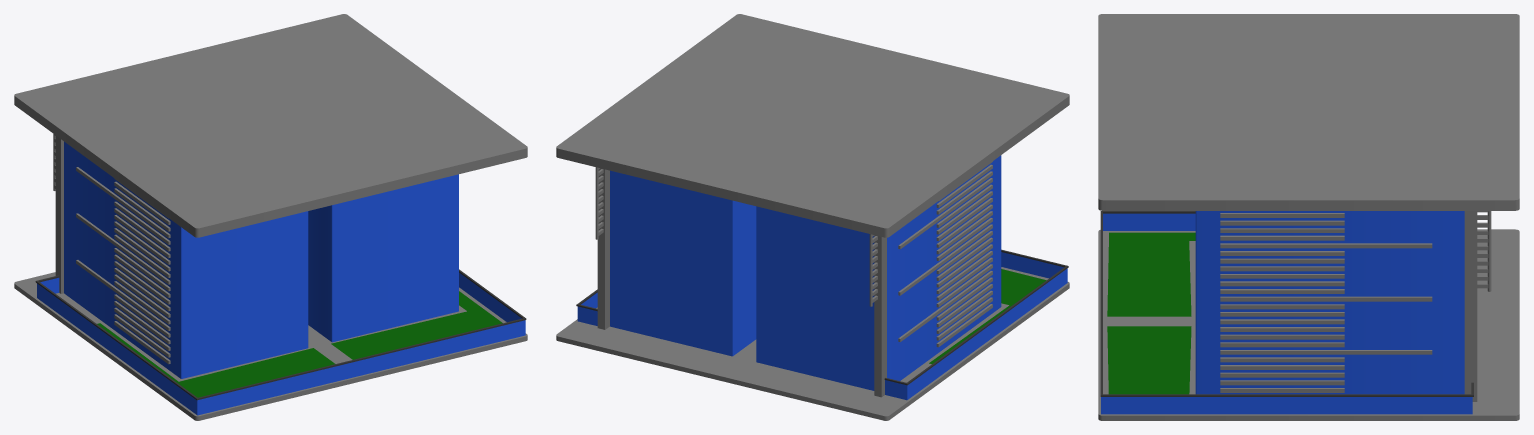
The model's file is SM_B_Mate_Floor_03.fbx.
The picture shows the model from 3 angles, left to right: view 1: azimuth 30°, elevation 25°; view 2: azimuth 150°, elevation 25°; view 3: azimuth 270°, elevation 25°; orthographic projection. The views are drawn at different scales.
Parts seen in each view (by area): view 1: SM_B_Mate_Floor_03; view 2: SM_B_Mate_Floor_03; view 3: SM_B_Mate_Floor_03.
Part boxes in pixels (box(x1,y1,x2,y2)): SM_B_Mate_Floor_03: box(14, 14, 527, 420); SM_B_Mate_Floor_03: box(556, 14, 1069, 420); SM_B_Mate_Floor_03: box(1098, 14, 1519, 420).
Size of the model in its own units: 2101 by 1162 by 2009.
